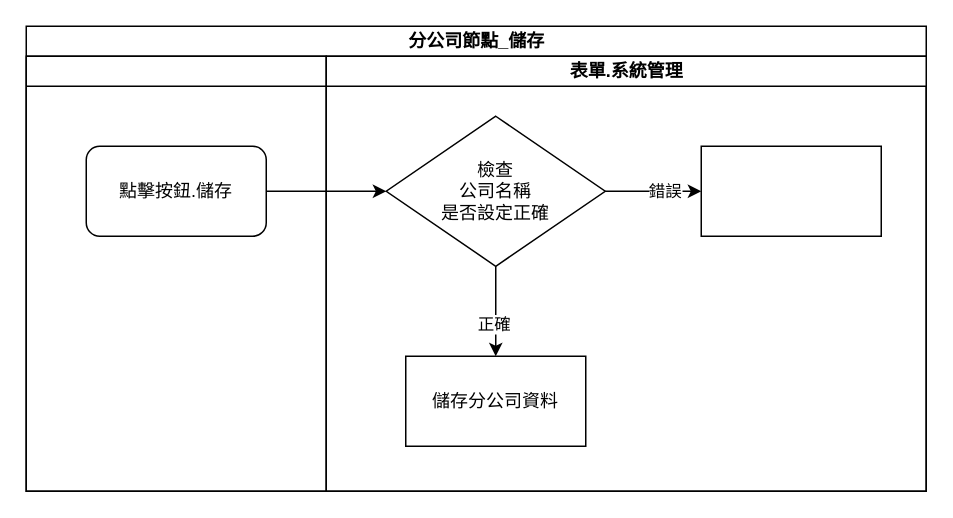
Some shapes in this 953 by 518 pixel diagram are drawn without their labels. Here are the shapes that lost their labels. From the top down, the box of each, then its label:
(700, 145, 881, 236): 彈出錯誤訊息
(25, 55, 326, 491): Site管理員
